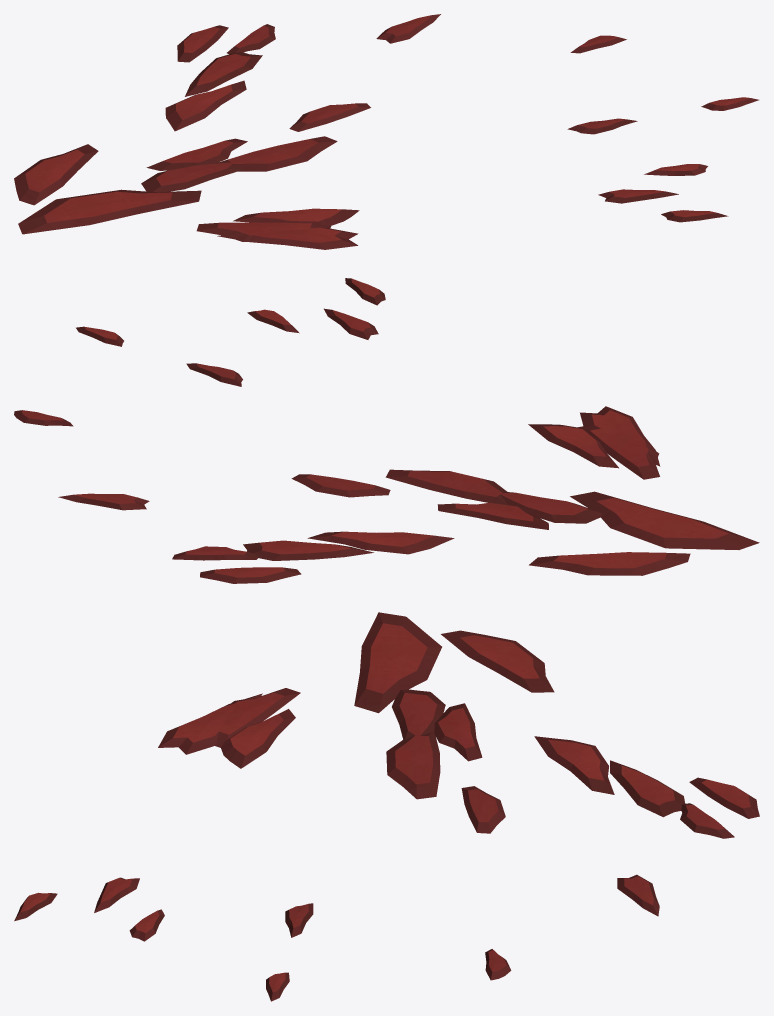
The model's file is gore_spatter.glb.
The picture shows the model from 3 angles, top to bottom: view 1: azimuth 30°, elevation 25°; view 2: azimuth 150°, elevation 25°; view 3: azimuth 270°, elevation 25°; orthographic projection. The views are drawn at different scales.
Visible parts, largest first — view 1: NC_gore_spatter; view 2: NC_gore_spatter; view 3: NC_gore_spatter.
Part boxes in pixels (x1=…): NC_gore_spatter: x1=14, y1=14, x2=758, y2=249; NC_gore_spatter: x1=14, y1=278, x2=759, y2=583; NC_gore_spatter: x1=14, y1=612, x2=759, y2=1001.
Size of the model in its own units: 1.01 by 0.0059 by 0.8211.
Materials: 2 (2 with a texture image).
